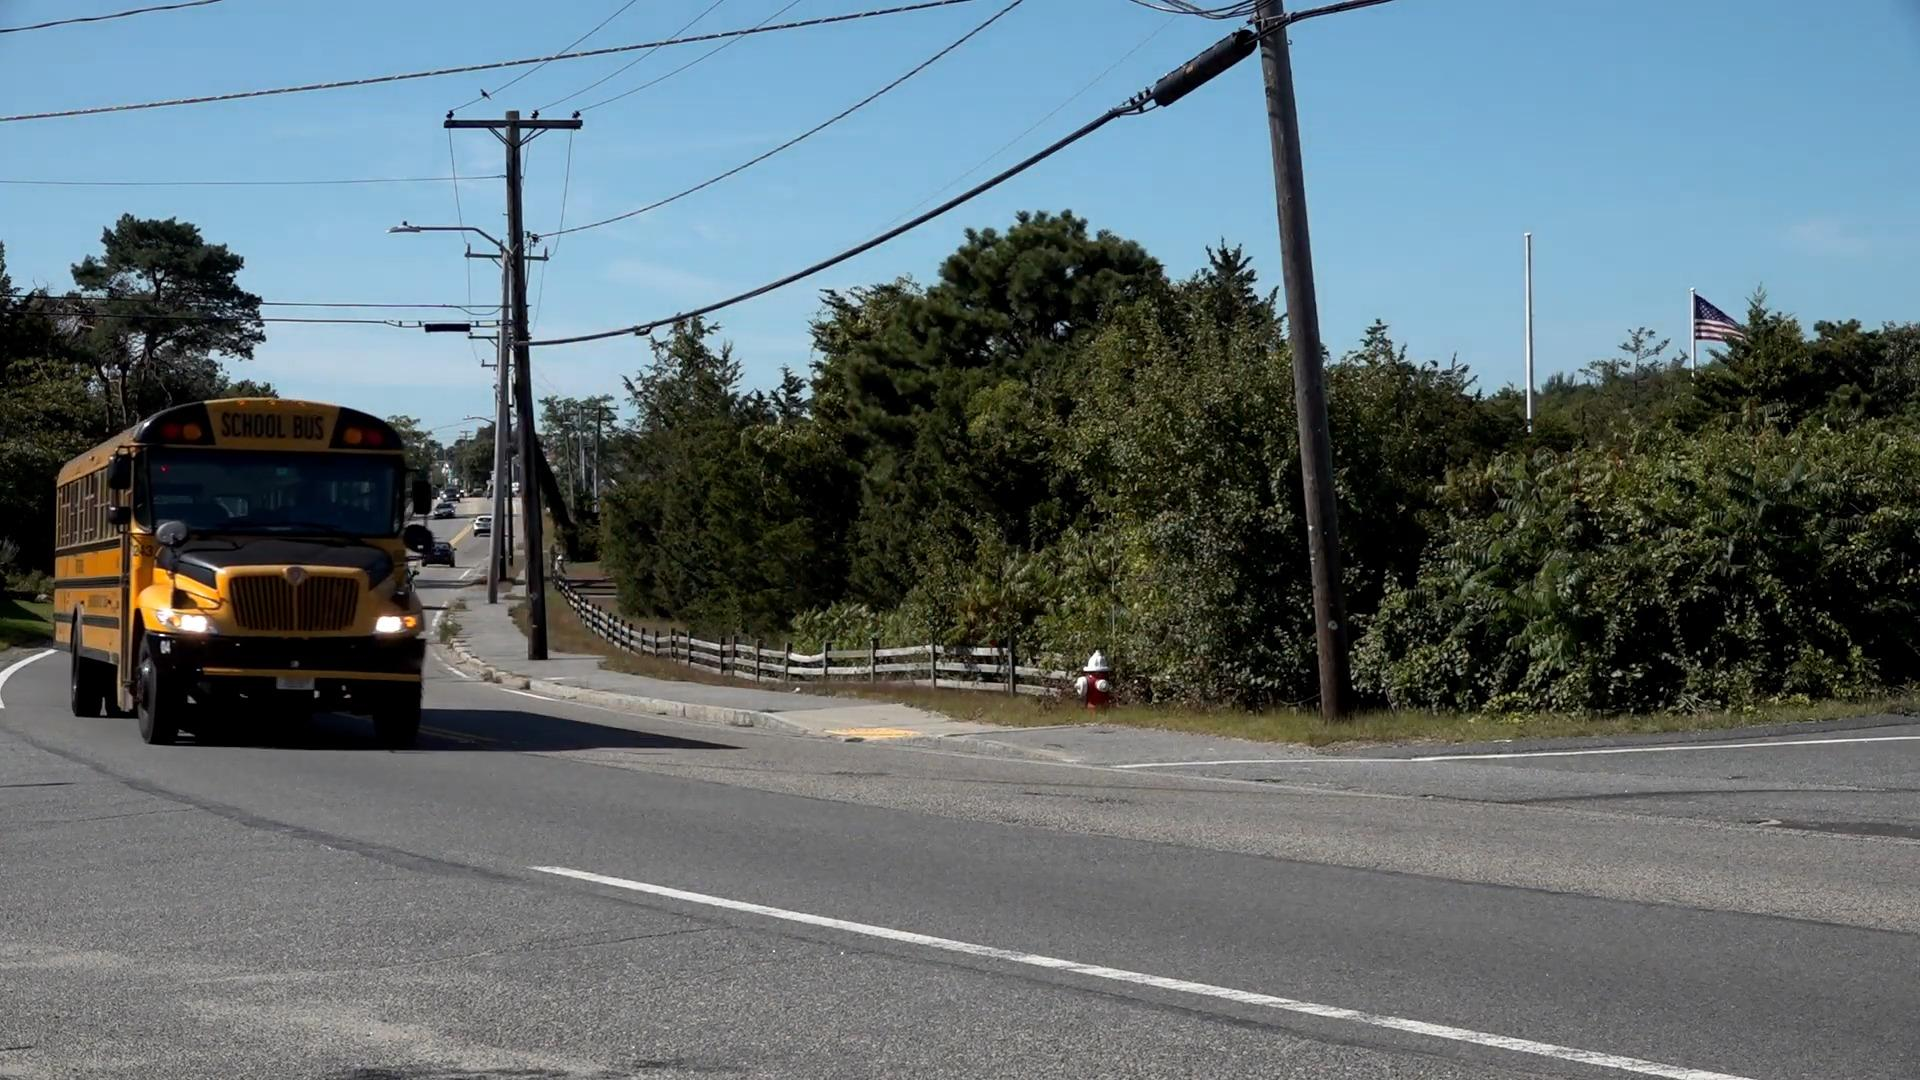truck: (57, 400, 423, 746)
